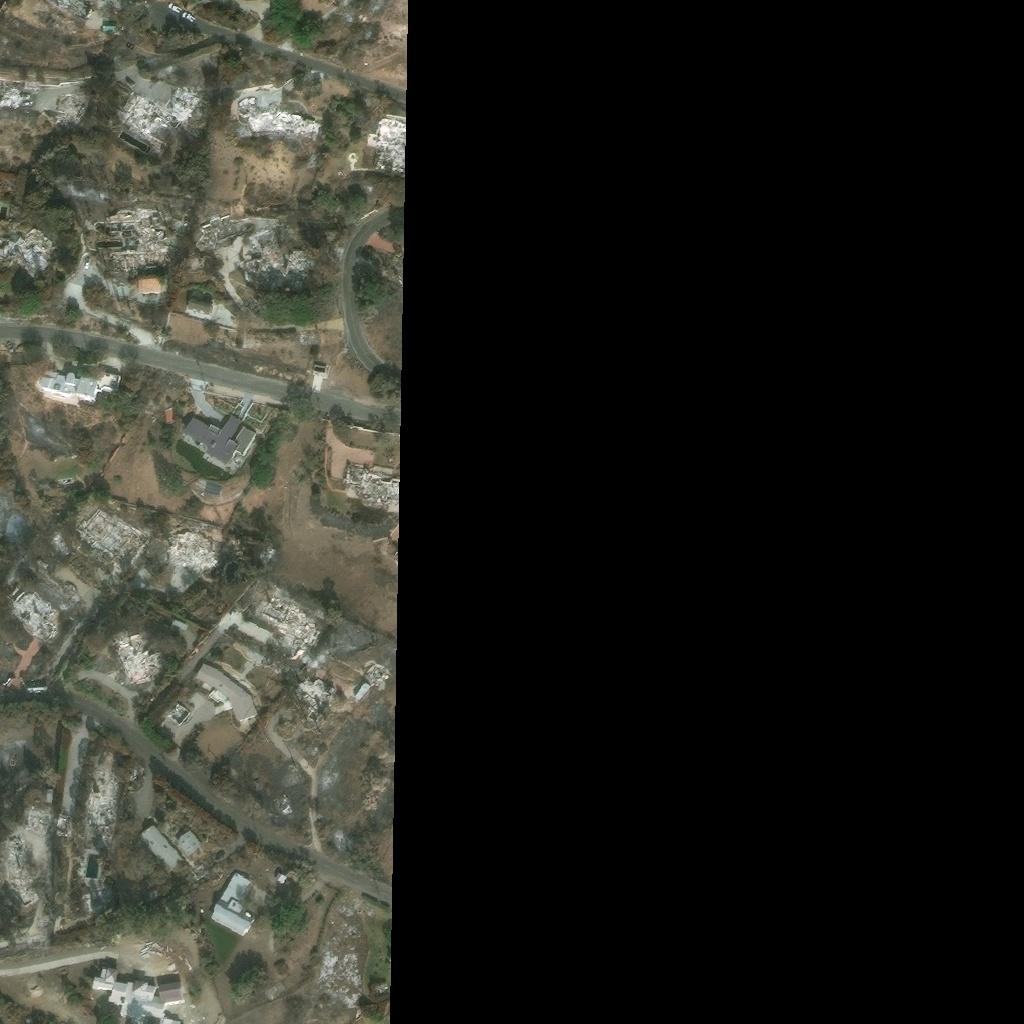0 no-damage: (88, 965, 186, 1023), (181, 414, 256, 471), (193, 663, 256, 724), (32, 365, 98, 404), (208, 898, 253, 938), (218, 871, 252, 904), (187, 288, 216, 310), (138, 279, 161, 295), (171, 619, 187, 631)
1 minor-damage: (174, 828, 203, 858)
2 major-damage: (138, 823, 184, 871), (46, 789, 55, 804)
3 destroyed: (244, 223, 317, 290), (118, 85, 212, 137), (102, 207, 170, 270), (77, 505, 147, 566), (257, 591, 322, 656), (8, 591, 62, 643), (116, 631, 163, 688), (0, 227, 60, 269), (342, 461, 399, 502), (4, 834, 34, 907), (89, 767, 117, 824), (169, 527, 211, 563), (202, 216, 236, 245), (21, 807, 51, 834), (162, 701, 190, 729), (83, 888, 112, 913), (361, 660, 385, 685), (189, 862, 207, 881), (28, 936, 46, 948), (57, 820, 71, 835), (201, 615, 212, 626)
